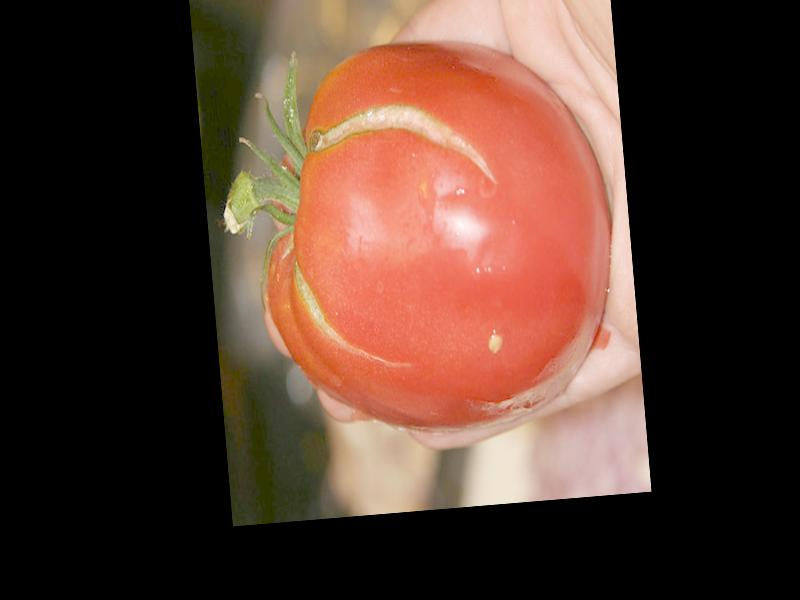Tomato: (247, 32, 626, 444)
